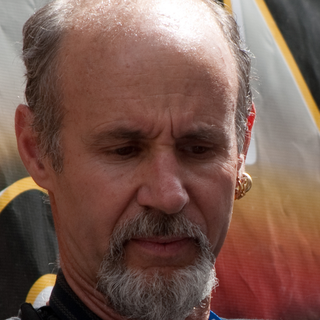eye: (99, 140, 147, 163), (176, 140, 219, 160)
